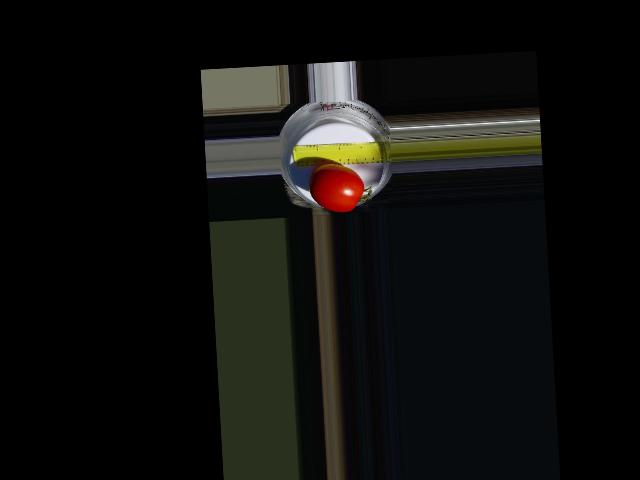tomato: (308, 161, 366, 214)
